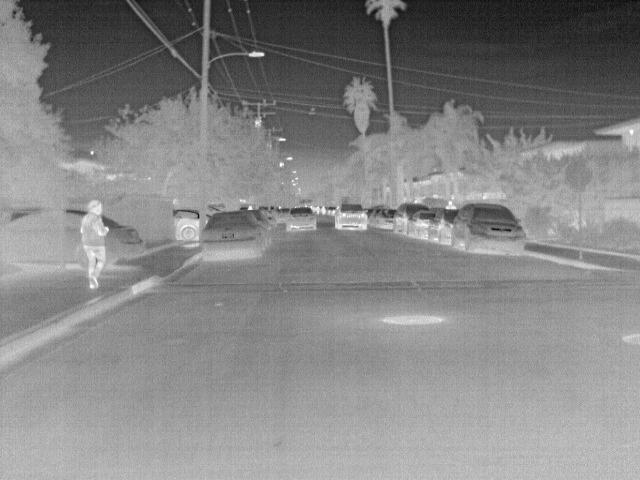car: (1, 207, 84, 263), (451, 201, 529, 257), (199, 208, 264, 260), (103, 216, 147, 260), (393, 202, 429, 236), (431, 209, 461, 245), (333, 204, 369, 232), (407, 210, 437, 240), (174, 208, 200, 242), (285, 206, 318, 232), (250, 209, 273, 246), (373, 207, 395, 230), (274, 208, 289, 225)
person: (77, 198, 111, 292), (320, 205, 328, 216)
